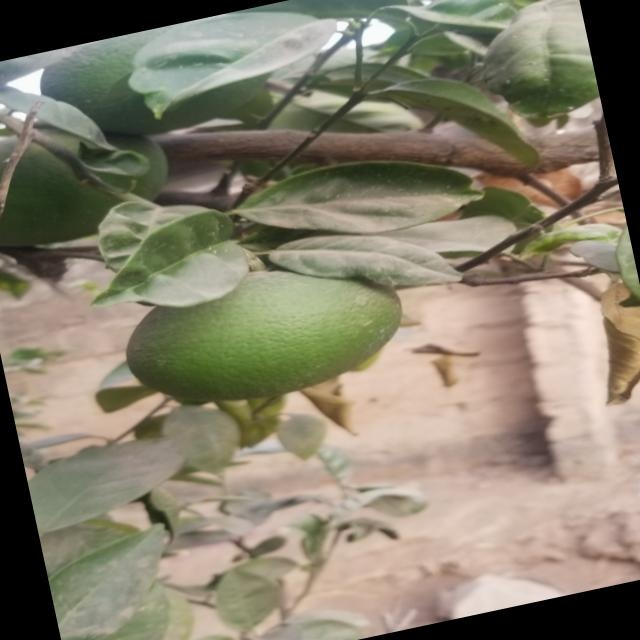agrume: (119, 244, 413, 420)
